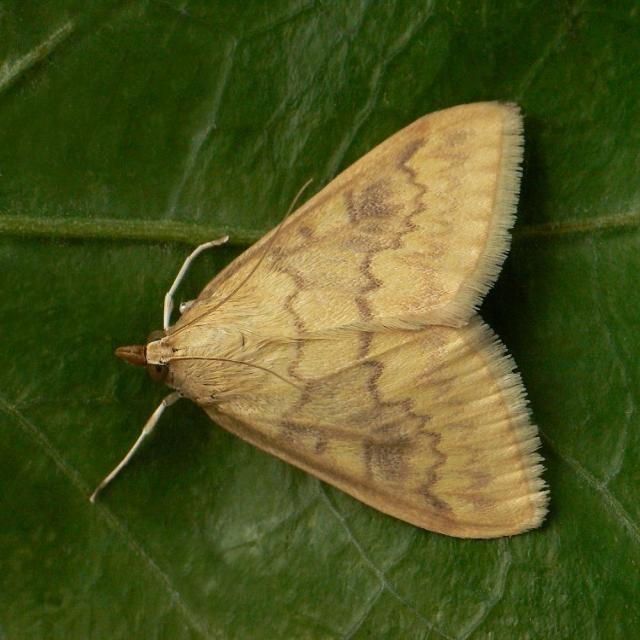cornborer-Adult-: (76, 89, 562, 558)
